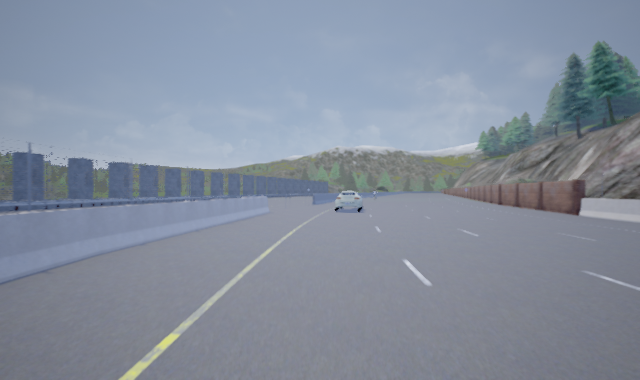vehicle: (333, 190, 363, 212)
